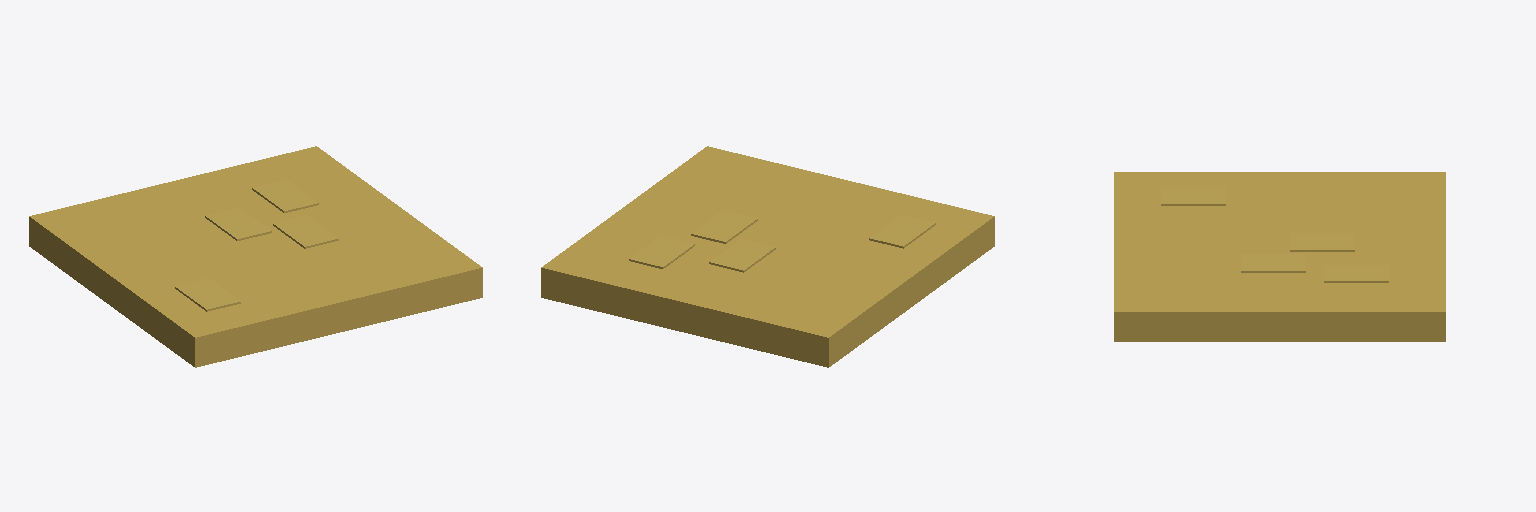
Rendered from sand3.obj.
The picture shows the model from 3 angles: view 1: azimuth 30°, elevation 25°; view 2: azimuth 150°, elevation 25°; view 3: azimuth 270°, elevation 25°; orthographic projection.
Bounding box in the file's own units: 1 × 0.1067 × 1.